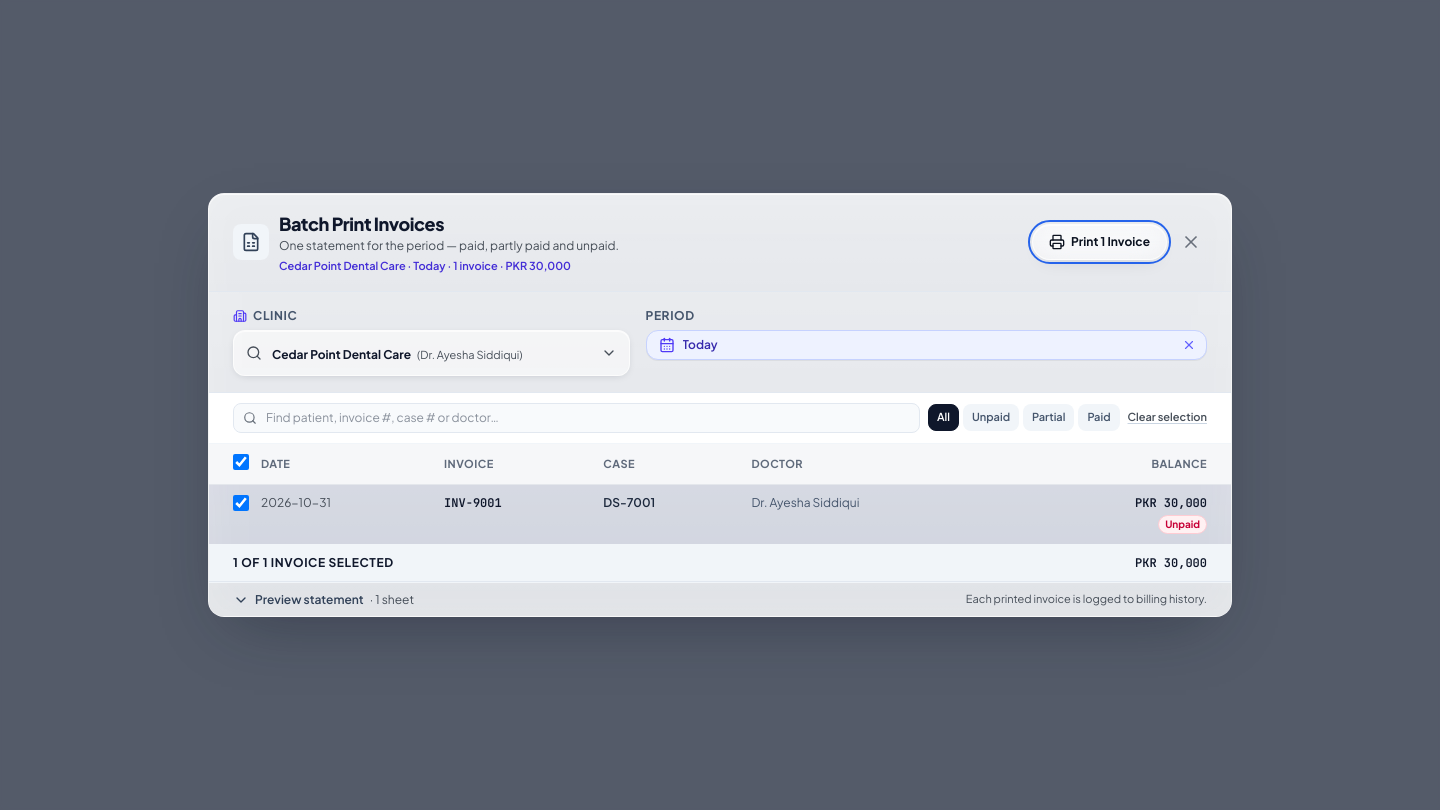
BatchInvoicePrintModal clinic picker › filters on name, doctor and city as you type
The image size is (1440, 810).
Click the dropdown labelled "Cedar Point Dental Care(Dr. Ayesha Siddiqui)".
click(431, 353)  # box x1=233 y1=330 x2=630 y2=376
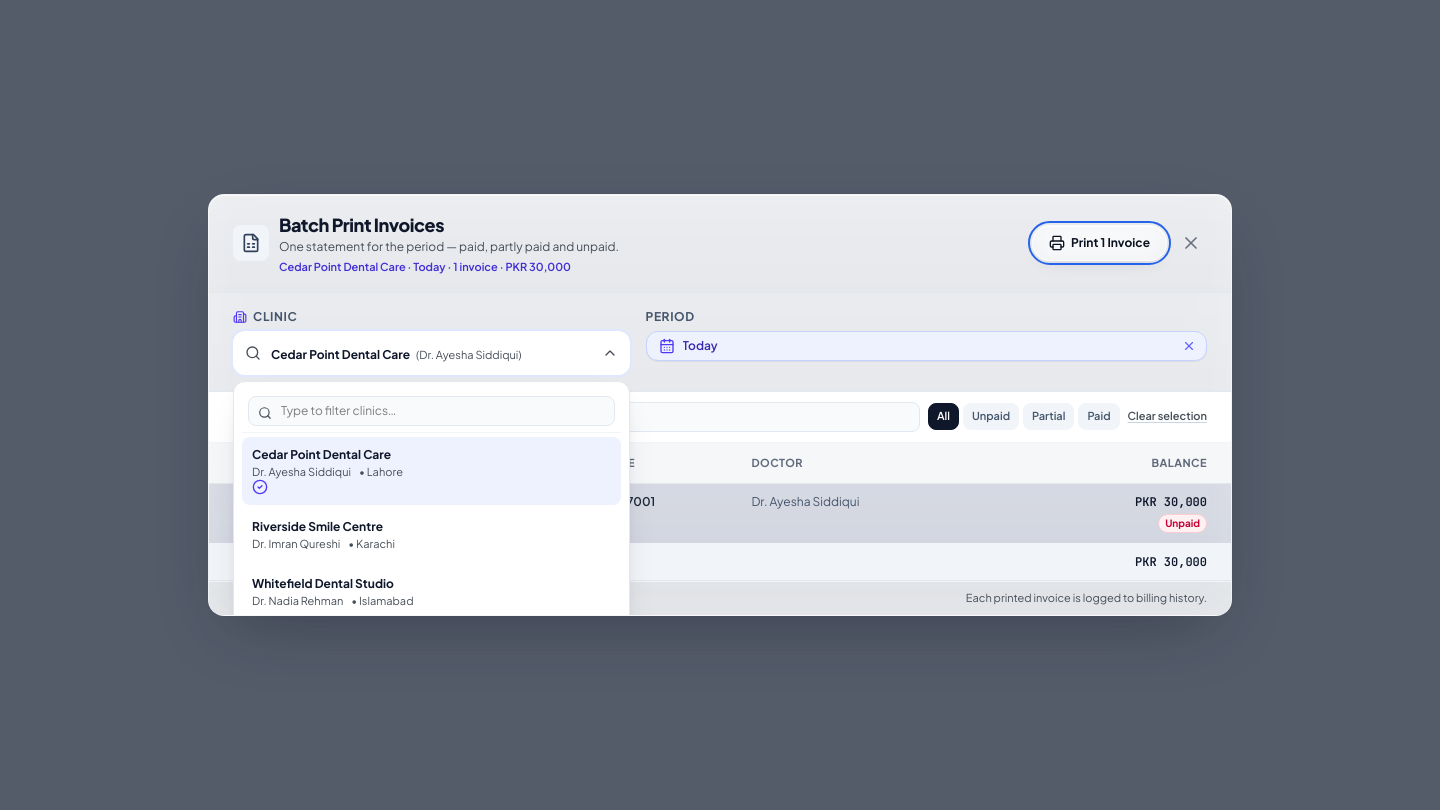
Type "riverside" into the field with placeholder "Type to filter clinics…".
click(431, 411); type("riverside")  # box x1=248 y1=396 x2=614 y2=426
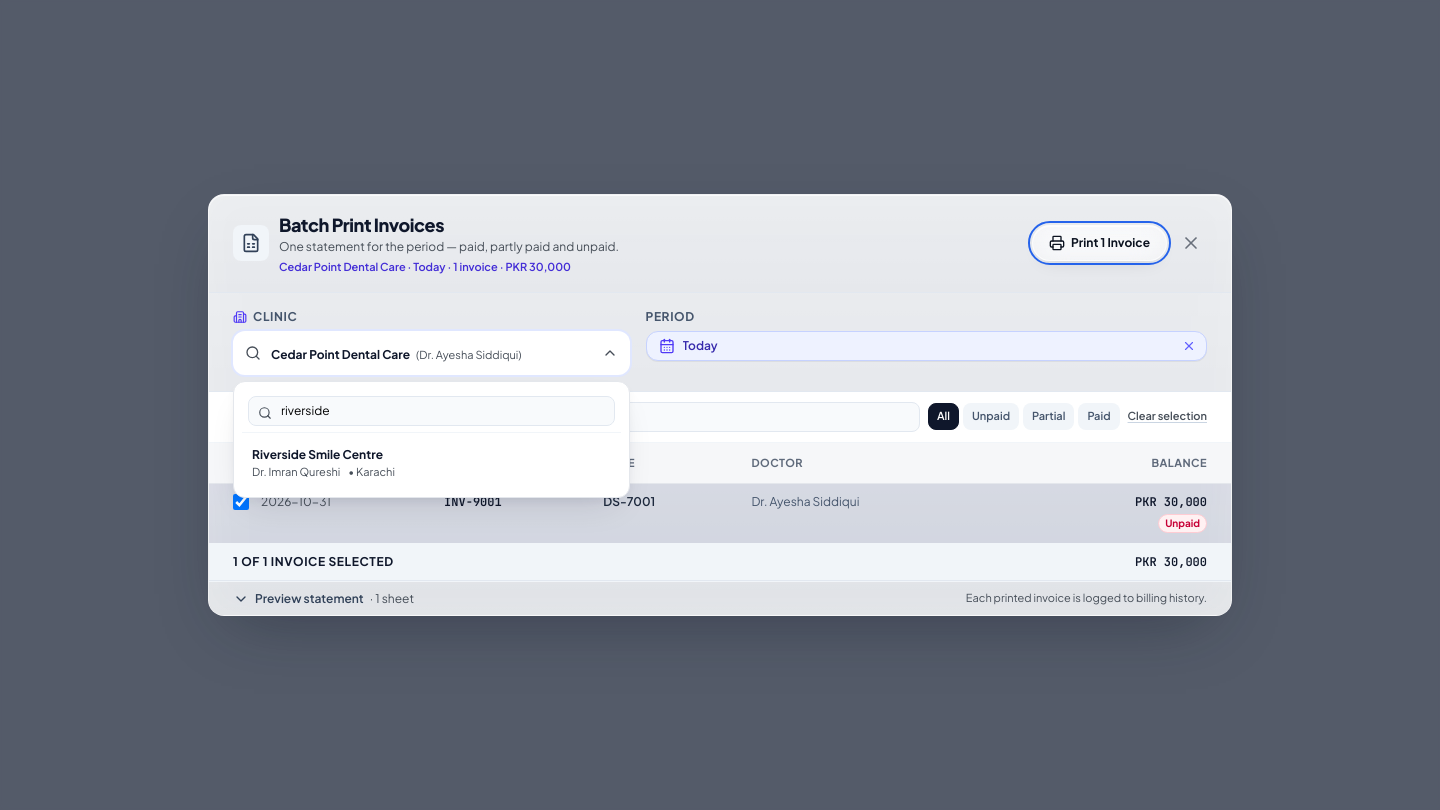
Now the option "Riverside Smile Centre Dr. Imran Qureshi • Karachi" is shown, box x1=242 y1=437 x2=620 y2=489
// The doctor and the city are searchable too, not just the clinic name.
Replace the text in the field with placeholder "Type to filter clinics…" with "nadia" at {"x": 431, "y": 411}, box x1=248 y1=396 x2=614 y2=426
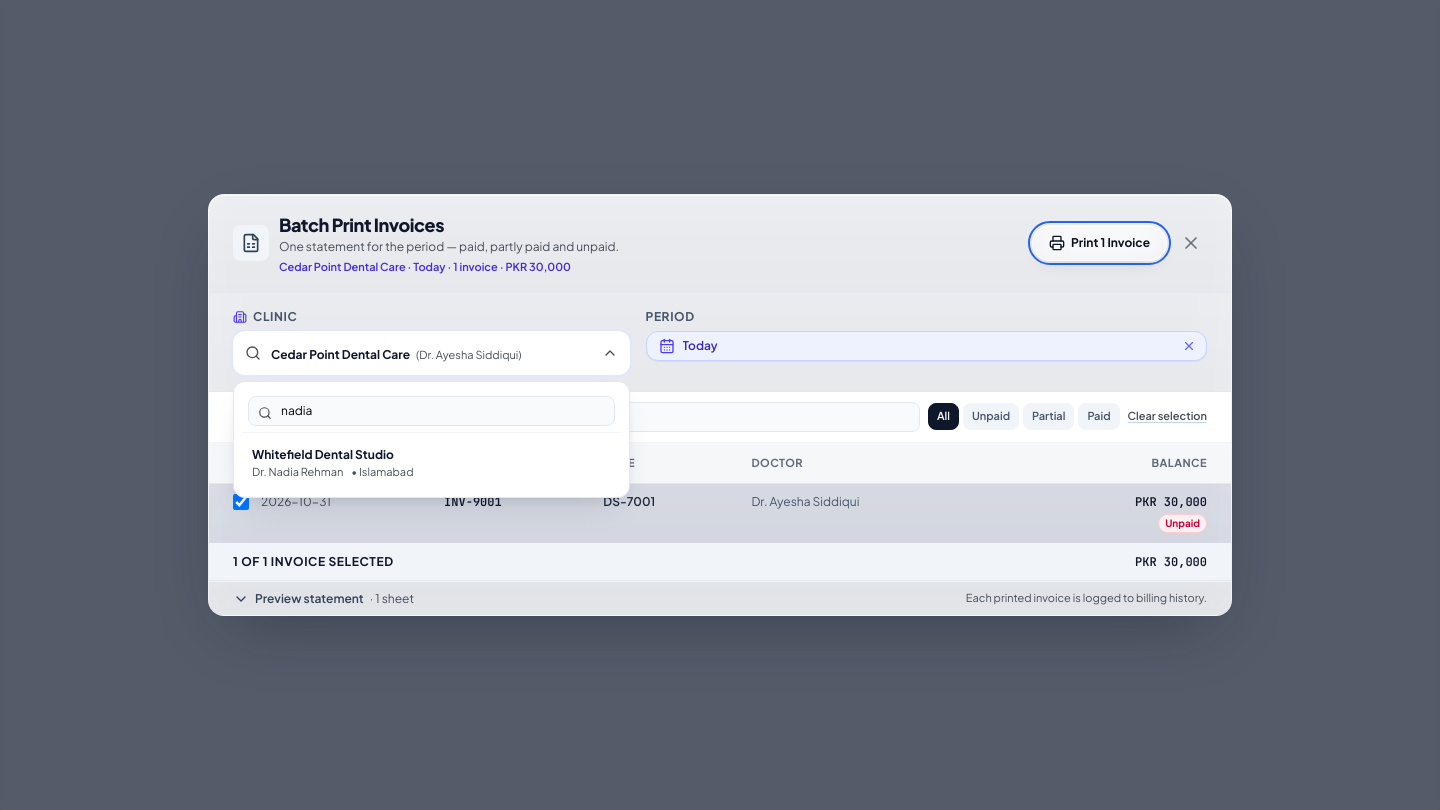
Now the option "Whitefield Dental Studio Dr. Nadia Rehman • Islamabad" is shown, box x1=242 y1=437 x2=620 y2=489
Replace the text in the field with placeholder "Type to filter clinics…" with "karachi" at {"x": 431, "y": 411}, box x1=248 y1=396 x2=614 y2=426
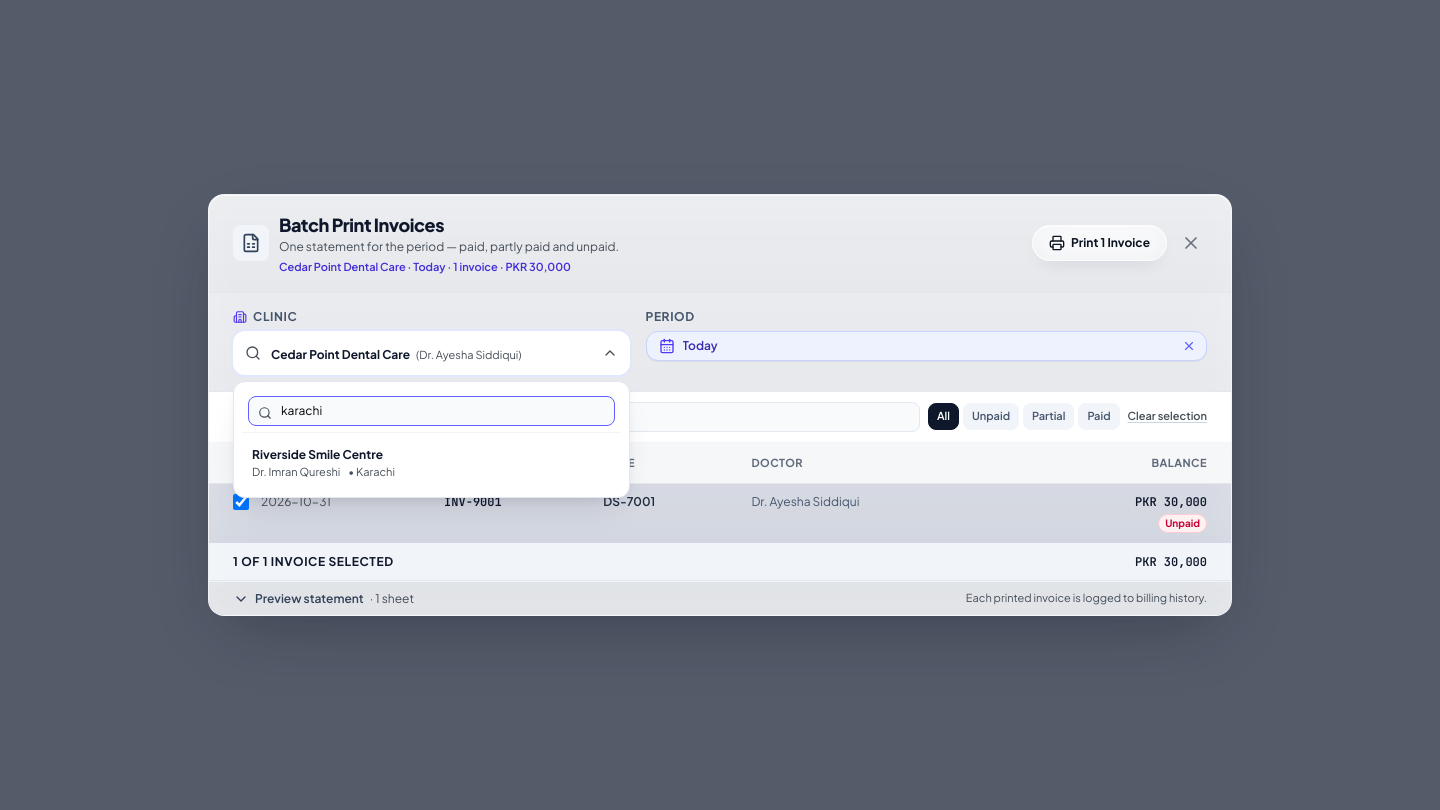
Now the option "Riverside Smile Centre Dr. Imran Qureshi • Karachi" is shown, box x1=242 y1=437 x2=620 y2=489
